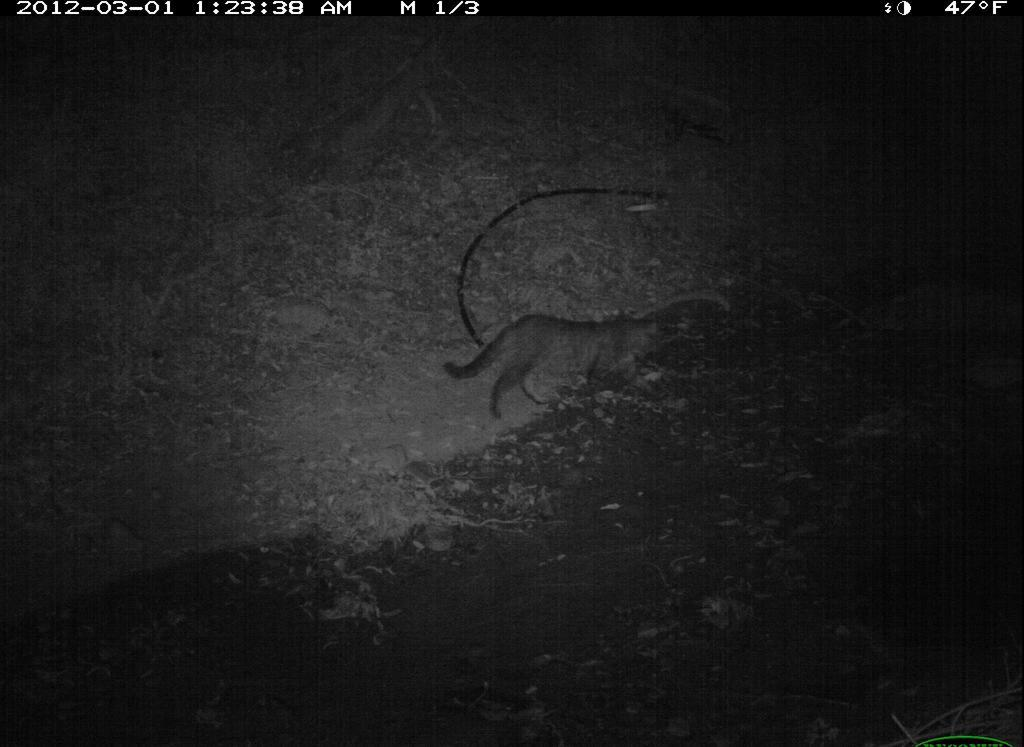cat: (438, 299, 701, 425)
